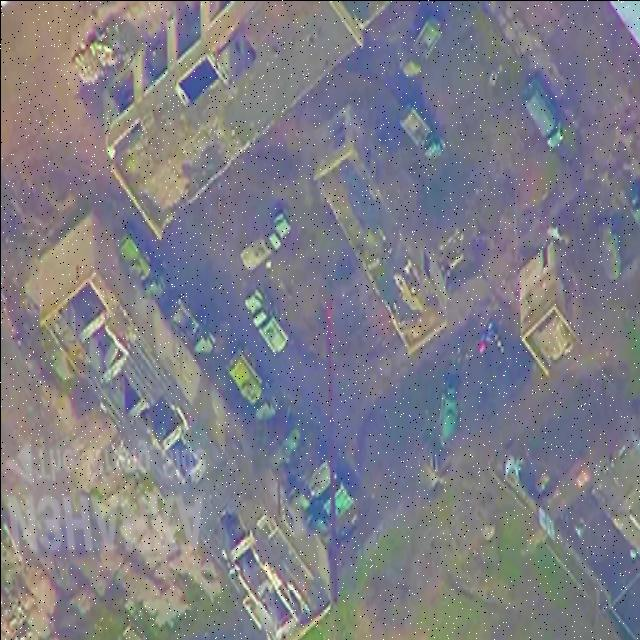TRUCK: (224, 348, 276, 424), (166, 286, 218, 360), (236, 205, 290, 275), (112, 227, 164, 297), (242, 283, 288, 357), (396, 11, 442, 81), (396, 104, 445, 163), (520, 76, 558, 152), (286, 452, 332, 511), (305, 479, 350, 534), (595, 219, 619, 283), (437, 376, 458, 441)
